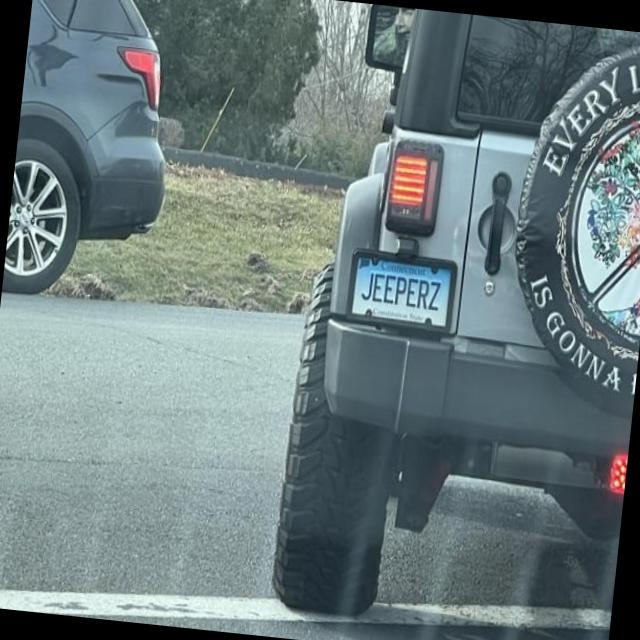LicensePlate: (344, 246, 459, 336)
